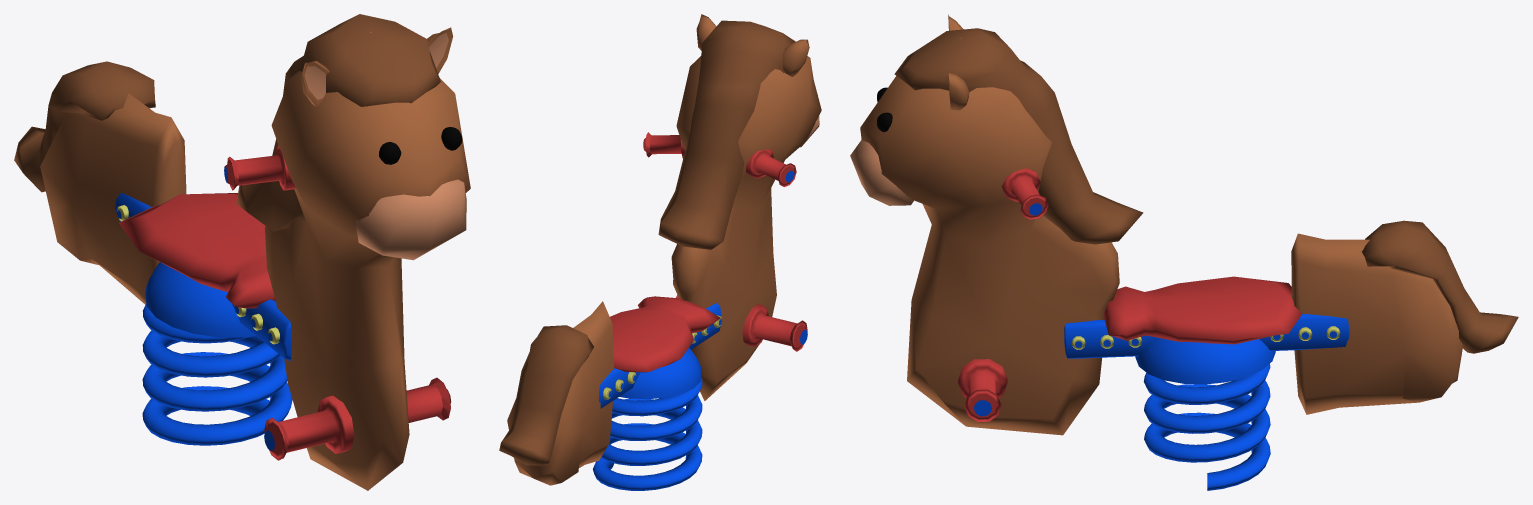
Rendered from SpringRocker_Horse.fbx.
3 views of the same model, side by side, from view 1: azimuth 30°, elevation 25°; view 2: azimuth 150°, elevation 25°; view 3: azimuth 270°, elevation 25° (orthographic). The views are drawn at different scales.
Visible parts, largest first — view 1: polySurface2; view 2: polySurface2; view 3: polySurface2.
Part boxes in pixels (x1=…): polySurface2: x1=14, y1=14, x2=470, y2=490; polySurface2: x1=499, y1=14, x2=821, y2=490; polySurface2: x1=850, y1=14, x2=1518, y2=490.
Size of the model in its own units: 0.5509 by 1.35 by 1.86.
